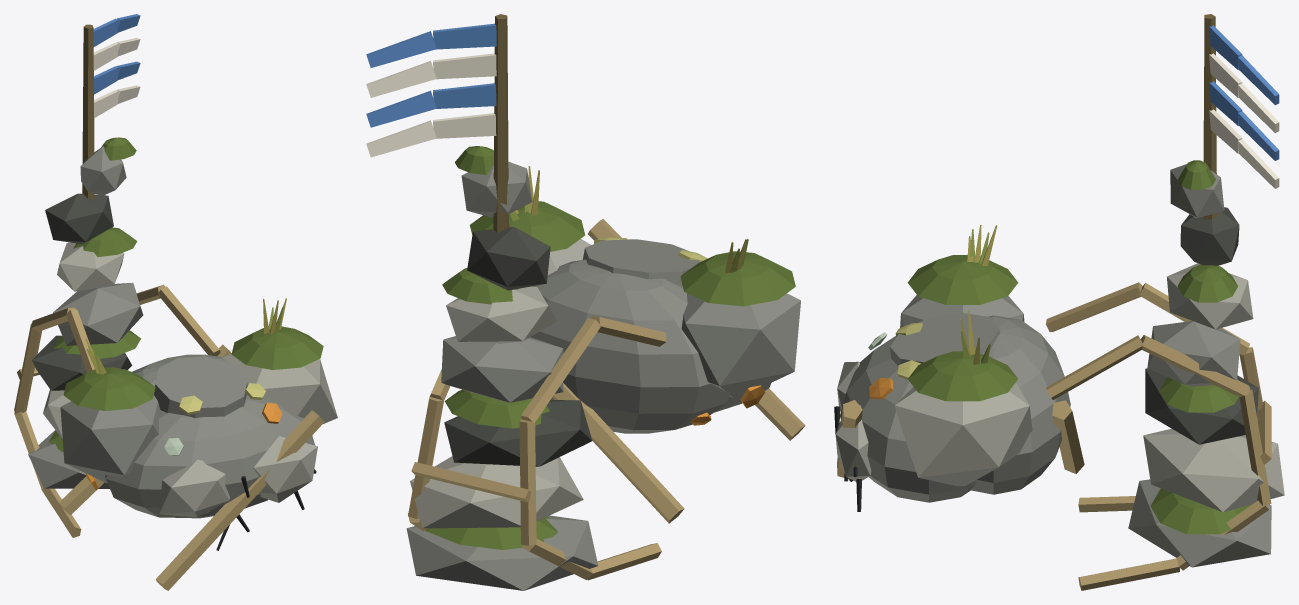
Rendered from old_stackstone_chest.glb.
3 renders of one model, left to right at view 1: azimuth 30°, elevation 25°; view 2: azimuth 150°, elevation 25°; view 3: azimuth 270°, elevation 25°, orthographic. The views are drawn at different scales.
Parts seen in each view (by area): view 1: old_stackstone_chest; view 2: old_stackstone_chest; view 3: old_stackstone_chest.
Part boxes in pixels (x1=…): old_stackstone_chest: x1=14, y1=14, x2=337, y2=590; old_stackstone_chest: x1=366, y1=14, x2=805, y2=590; old_stackstone_chest: x1=834, y1=14, x2=1284, y2=590.
Size of the model in its own units: 1.13 by 1.91 by 1.46.
